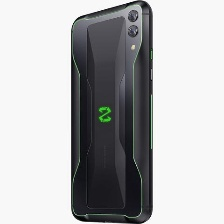phone: (67, 0, 157, 224)
